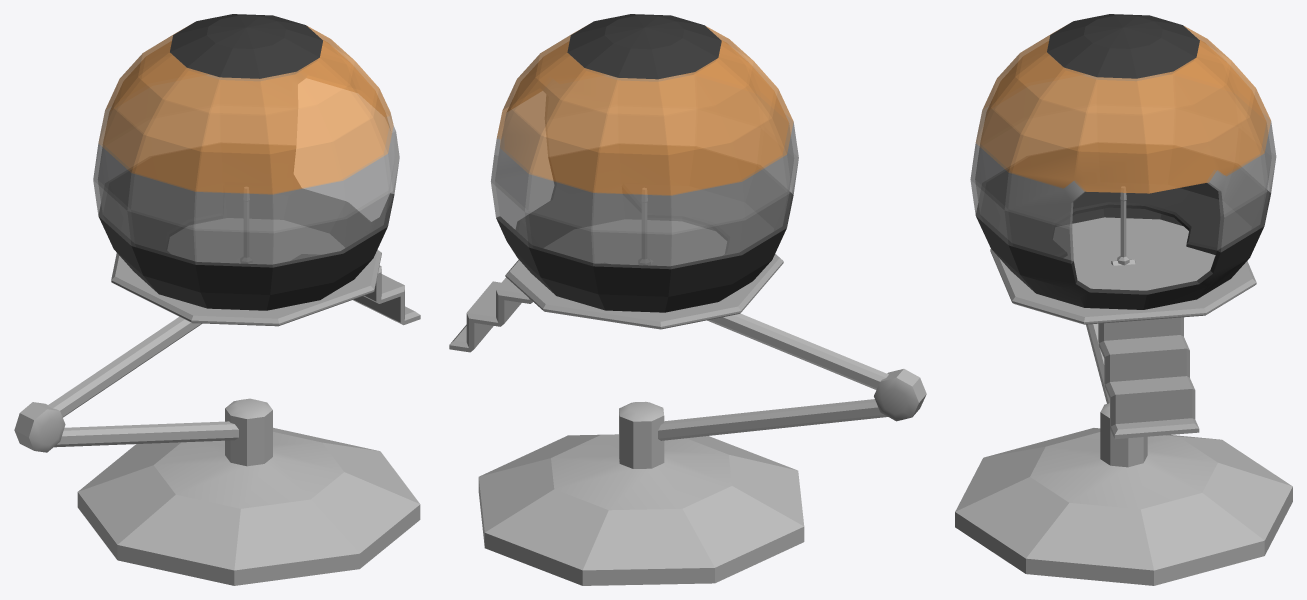
Rendered from Orb.fbx.
The picture shows the model from 3 angles, left to right: view 1: azimuth 30°, elevation 25°; view 2: azimuth 150°, elevation 25°; view 3: azimuth 270°, elevation 25°; orthographic projection.
Visible parts, largest first — view 1: EggRideShape, Orb, Arm, TopArm, Joint; view 2: EggRideShape, Orb, Arm, TopArm, Joint; view 3: EggRideShape, Orb, Arm.
Boxes of the visible parts, x1,y1,x2,y2 form: EggRideShape: (93, 14, 420, 326); Orb: (77, 398, 420, 585); Arm: (54, 421, 238, 447); TopArm: (47, 316, 201, 417); Joint: (14, 402, 65, 452); EggRideShape: (449, 14, 798, 352); Orb: (478, 401, 804, 585); Arm: (658, 399, 887, 440); TopArm: (707, 313, 888, 389); Joint: (874, 369, 926, 421); EggRideShape: (970, 14, 1276, 439); Orb: (955, 403, 1292, 585); Arm: (1086, 323, 1109, 403).
Bounding box in the file's own units: 397 × 438 × 276.
